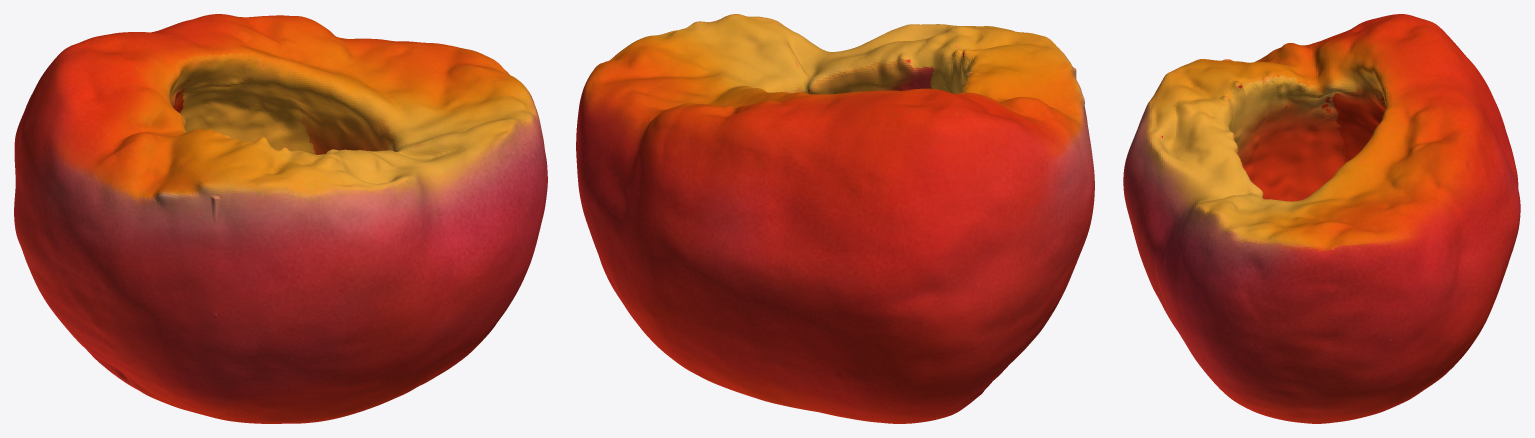
3 renders of one model, left to right at view 1: azimuth 30°, elevation 25°; view 2: azimuth 150°, elevation 25°; view 3: azimuth 270°, elevation 25°, orthographic. The views are drawn at different scales.
Visible parts, largest first — view 1: Hy21_Mesh.obj; view 2: Hy21_Mesh.obj; view 3: Hy21_Mesh.obj.
Boxes of the visible parts, x1,y1,x2,y2 form: Hy21_Mesh.obj: [14, 14, 547, 423]; Hy21_Mesh.obj: [576, 14, 1094, 423]; Hy21_Mesh.obj: [1123, 14, 1520, 423].
Size of the model in its own units: 1.96 by 1.43 by 1.69.
1 material, 1 textured.
